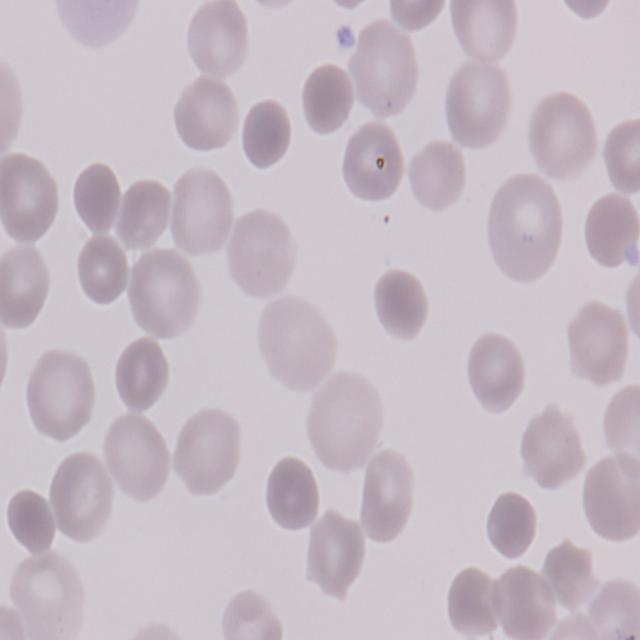RBC: (487, 171, 569, 284), (258, 294, 339, 394), (304, 374, 382, 474), (125, 244, 202, 342), (346, 17, 418, 120), (98, 412, 172, 510), (22, 346, 96, 444), (222, 208, 297, 304), (444, 56, 516, 155), (168, 164, 236, 262), (526, 92, 600, 182), (11, 550, 84, 640), (50, 448, 116, 547), (170, 406, 240, 499), (356, 447, 417, 546), (565, 298, 632, 388), (519, 407, 587, 493), (172, 74, 242, 157), (182, 0, 251, 84), (340, 119, 408, 204), (299, 515, 364, 603), (580, 452, 640, 546), (0, 156, 61, 247), (106, 335, 170, 415), (404, 136, 468, 215), (464, 331, 527, 411), (448, 0, 520, 67), (262, 458, 322, 536), (0, 245, 54, 331), (444, 567, 507, 640), (582, 193, 640, 272), (116, 175, 175, 252), (74, 234, 132, 306), (600, 113, 640, 200), (586, 576, 640, 640), (218, 590, 282, 640), (0, 54, 24, 159), (380, 0, 448, 31), (538, 616, 606, 640), (0, 316, 12, 414), (0, 607, 32, 640)
Spherocyte: (371, 270, 433, 346), (483, 490, 542, 566), (298, 61, 357, 137), (0, 484, 57, 560), (236, 98, 294, 172), (70, 162, 128, 235)
